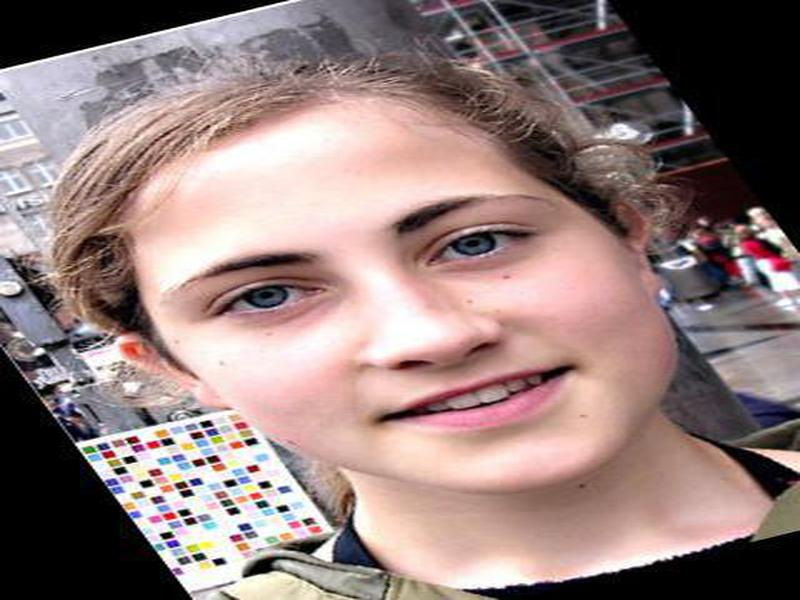without_mask: (129, 127, 680, 487)
